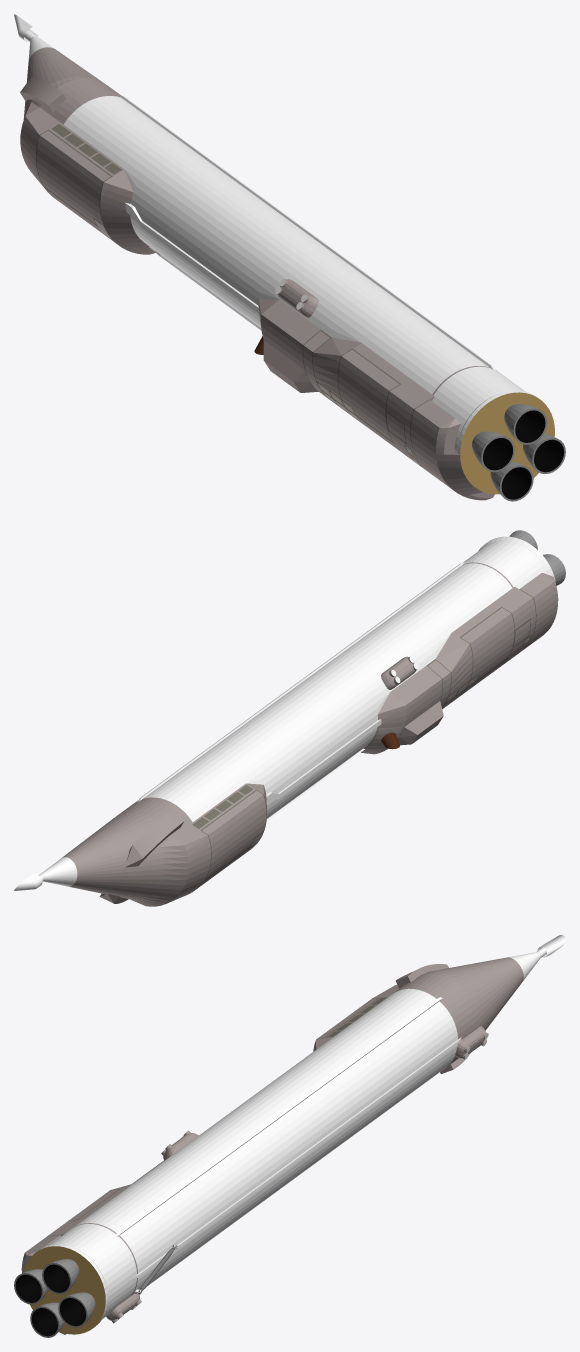
The model's file is booster4.obj.
3 views of the same model, one above another, from view 1: azimuth 30°, elevation 25°; view 2: azimuth 150°, elevation 25°; view 3: azimuth 330°, elevation 25° (orthographic). The views are drawn at different scales.
Parts seen in each view (by area): view 1: group37, group57, group63, group99, group132, group101, group91, group56, group44, group43, group36, group67 (+20 smaller); view 2: group37, group57, group85, group63, group99, group4, group2, group101, group56, group3, group44, group61 (+13 smaller); view 3: group37, group57, group101, group132, group85, group67, group36, group35, group49, group59, group100, group4 (+6 smaller).
Boxes of the visible parts, x1,y1,x2,y2 form: group37: (63,96,348,327); group57: (300,273,450,365); group63: (36,122,124,224); group99: (338,343,409,441); group132: (460,392,554,494); group101: (399,341,496,394); group91: (100,169,155,254); group56: (261,299,320,369); group44: (411,400,460,488); group43: (386,378,434,469); group36: (117,94,495,370); group67: (40,78,120,124); group37: (136,652,395,821); group57: (354,588,478,678); group85: (85,814,161,899); group63: (190,783,266,878); group99: (452,602,514,680); group4: (62,838,113,892); group2: (130,837,188,906); group101: (434,563,512,609); group56: (391,666,442,726); group3: (167,824,210,903); group44: (520,573,558,650); group61: (436,633,472,696); group37: (197,988,457,1211); group57: (107,1143,247,1275); group101: (73,1201,166,1294); group132: (24,1246,105,1334); group85: (434,963,504,1030); group67: (393,973,478,1066); group36: (114,997,442,1237); group35: (134,1037,461,1278); group49: (184,1133,259,1220); group59: (50,1232,125,1318); group100: (61,1223,136,1303); group4: (476,957,523,1006).
Size of the model in its own units: 4.8 by 4.23 by 37.7.
